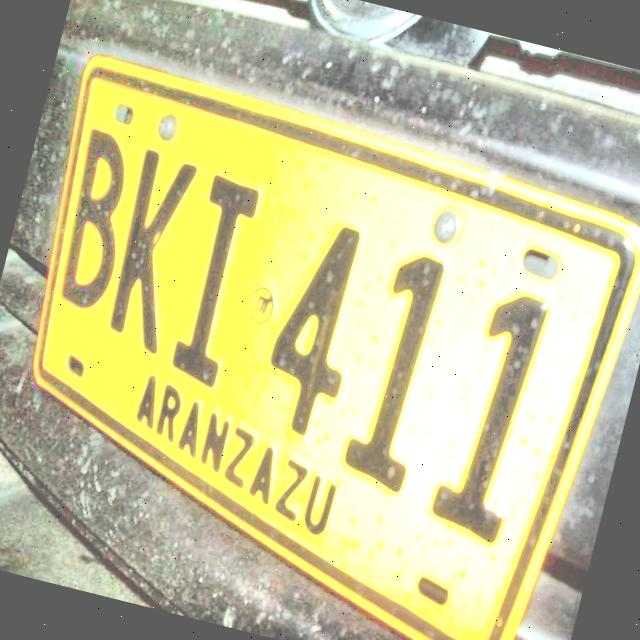plate: (33, 52, 640, 640)
